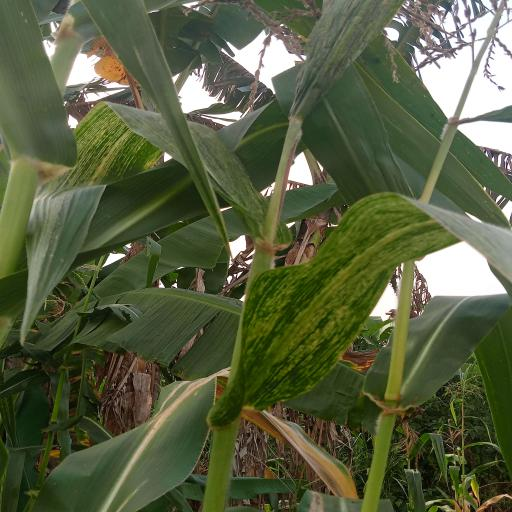Corn_Streak: (229, 192, 462, 427), (20, 98, 181, 341)
